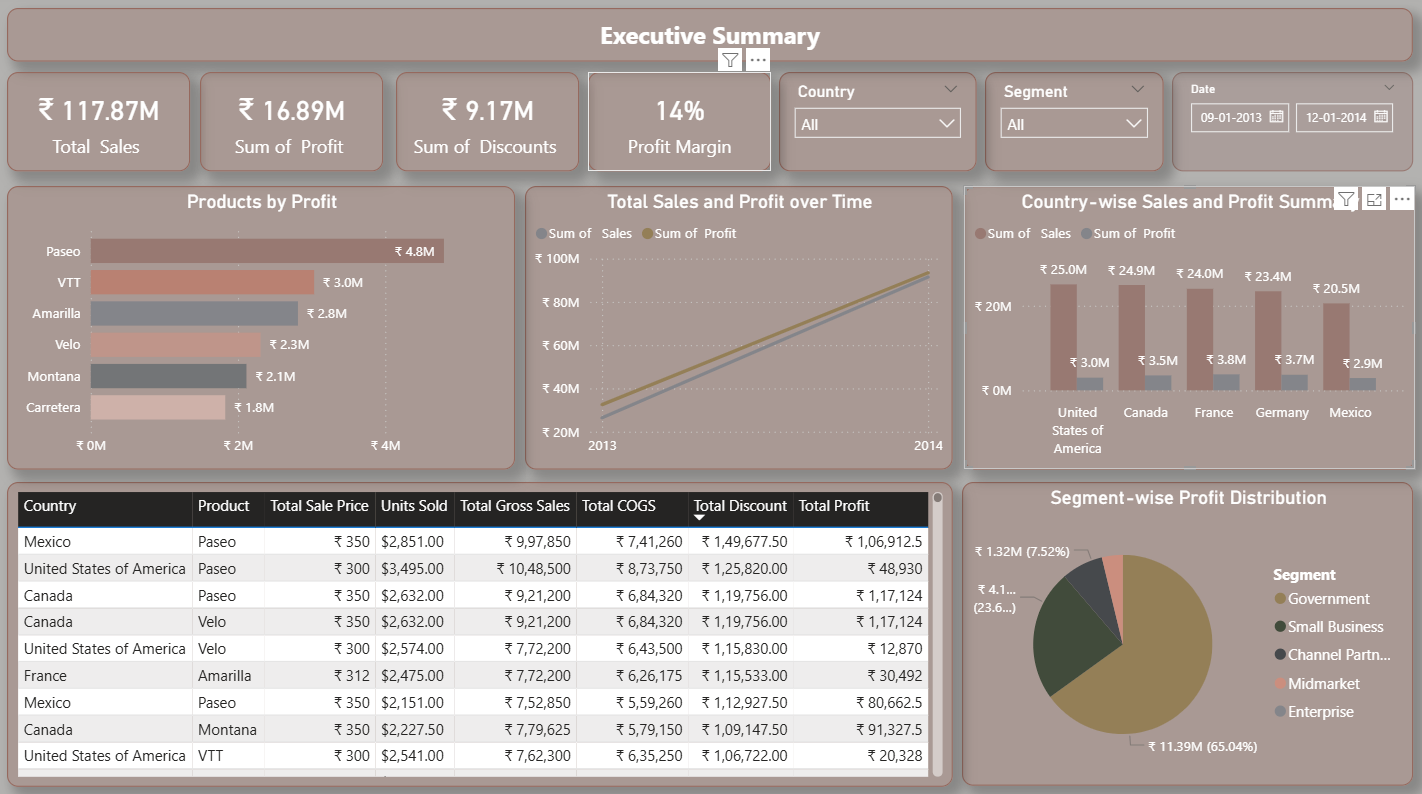

The page's visual inventory and layout, read from the dashboard file:
{"tool":"powerbi","page":{"name":"Executive Summary","canvas":[1280,720],"ordinal":0},"visuals":[{"type":"clusteredColumnChart","title":"Country-wise Sales and Profit Summary","fields":{"Category":["financial_data.Country"],"Y":["Sum(financial_data.  Sales )","Sum(financial_data. Profit )"]},"box":[867,170,404,254],"z":0},{"type":"lineChart","title":"Total Sales and Profit over Time","fields":{"Y":["Sum(financial_data.  Sales )"],"Y2":["Sum(financial_data. Profit )"],"Category":["financial_data.Date.Variation.Date Hierarchy.Year","financial_data.Date.Variation.Date Hierarchy.Quarter","financial_data.Date.Variation.Date Hierarchy.Month","financial_data.Date.Variation.Date Hierarchy.Day"]},"box":[474,170,383,254],"z":1000},{"type":"slicer","fields":{"Values":["financial_data.Date"]},"box":[1053,68,216,89],"z":2000},{"type":"slicer","fields":{"Values":["financial_data.Segment"]},"box":[886,68,160,89],"z":3000},{"type":"slicer","fields":{"Values":["financial_data.Country"]},"box":[701,68,177,89],"z":4000},{"type":"pieChart","title":" Segment-wise Profit Distribution","fields":{"Y":["Sum(financial_data. Profit )"],"Category":["financial_data.Segment"]},"box":[865,435,404,272],"z":5000},{"type":"textbox","box":[10,11,1259,48],"z":6000},{"type":"card","fields":{"Values":["Sum(financial_data.  Sales )"]},"box":[10,68,164,89],"z":7000},{"type":"card","fields":{"Values":["Sum(financial_data. Profit )"]},"box":[183,68,164,89],"z":8000},{"type":"card","fields":{"Values":["Sum(financial_data. Discounts )"]},"box":[358,68,164,89],"z":9000},{"type":"card","fields":{"Values":["Measure.Profit Margin"]},"box":[530,68,164,89],"z":10000},{"type":"tableEx","fields":{"Values":["financial_data.Country","financial_data. Product ","Sum(financial_data. Sale Price )","financial_data. Units Sold ","Sum(financial_data. Gross Sales )","Sum(financial_data. COGS )","Sum(financial_data. Discounts )","Sum(financial_data. Profit )"]},"box":[10,435,847,273],"z":11000},{"type":"clusteredBarChart","title":"Products by Profit","fields":{"Y":["Sum(financial_data. Profit )"],"Category":["financial_data. Product "]},"box":[10,170,455,254],"z":12000}]}

Visuals, with their boxes in screenshot pixels (x1, y1, x2, y2), scaled from the page's 1280x720 canvas onto the 1422x794 screenshot:
"Country-wise Sales and Profit Summary" clusteredColumnChart: select_region(963, 187, 1412, 468)
"Total Sales and Profit over Time" lineChart: select_region(527, 187, 952, 468)
slicer - financial_data.Date: select_region(1170, 75, 1410, 173)
slicer - financial_data.Segment: select_region(984, 75, 1162, 173)
slicer - financial_data.Country: select_region(779, 75, 975, 173)
" Segment-wise Profit Distribution" pieChart: select_region(961, 480, 1410, 780)
textbox: select_region(11, 12, 1410, 65)
card - Sum(financial_data.  Sales ): select_region(11, 75, 193, 173)
card - Sum(financial_data. Profit ): select_region(203, 75, 385, 173)
card - Sum(financial_data. Discounts ): select_region(398, 75, 580, 173)
card - Measure.Profit Margin: select_region(589, 75, 771, 173)
tableEx - financial_data.Country x financial_data. Product : select_region(11, 480, 952, 781)
"Products by Profit" clusteredBarChart: select_region(11, 187, 517, 468)
